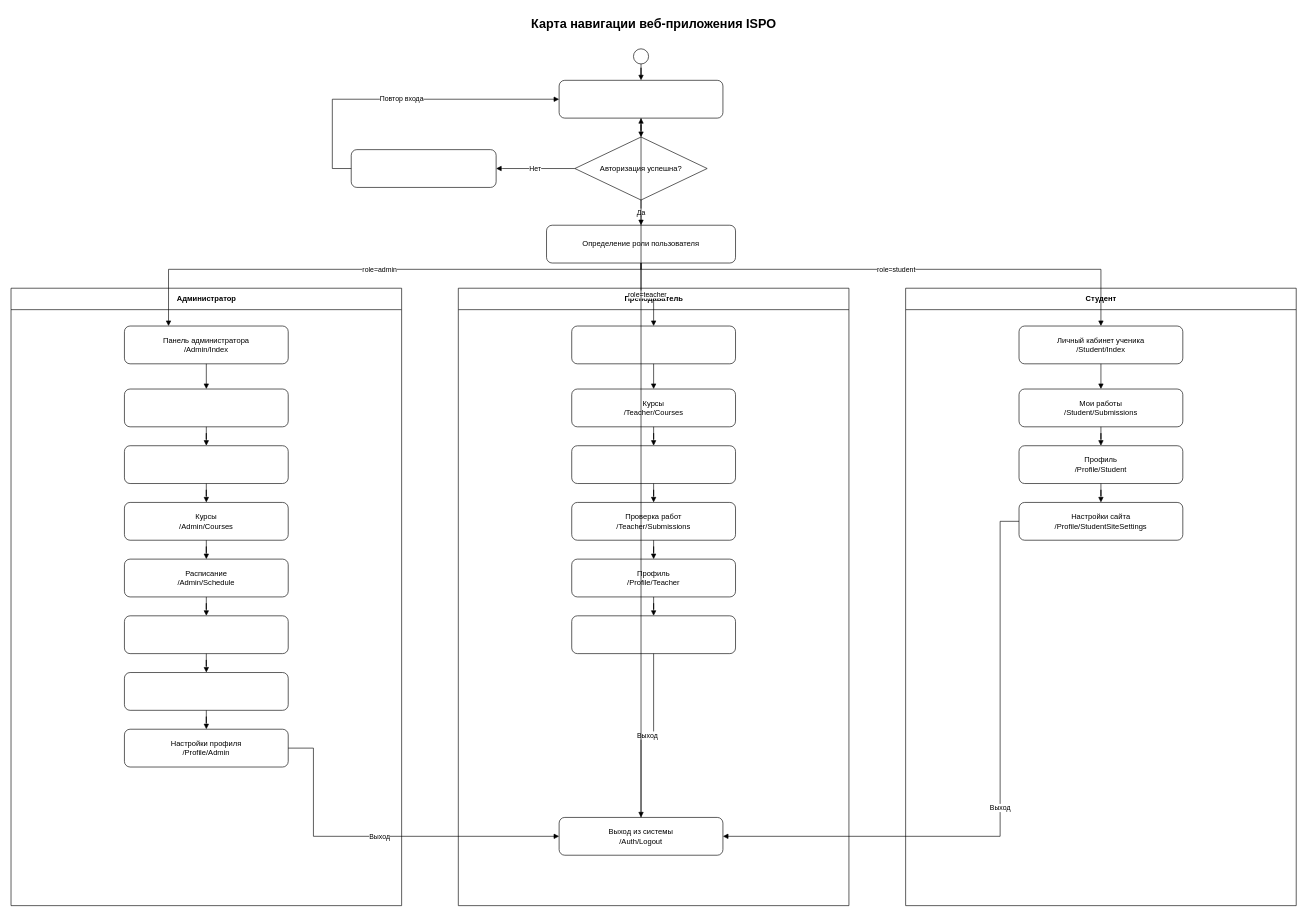
This 1307x917 diagram has some shape labels left out. The centre of each missing label's shape, as x and y in pixels:
Группы /Admin/Groups: the point at 206,464
Зачисления /Admin/Enrollments: the point at 206,634
Настройки сайта /Profile/TeacherSiteSettings: the point at 653,634
Отчеты /Admin/Reports/*: the point at 206,691
Ошибка логина/пароля: the point at 423,168
Панель преподавателя /Teacher/Index: the point at 653,344
Пользователи /Admin/Users: the point at 206,407
Страница входа /Auth/Login: the point at 640,99
Уроки /Teacher/Lessons: the point at 653,464
